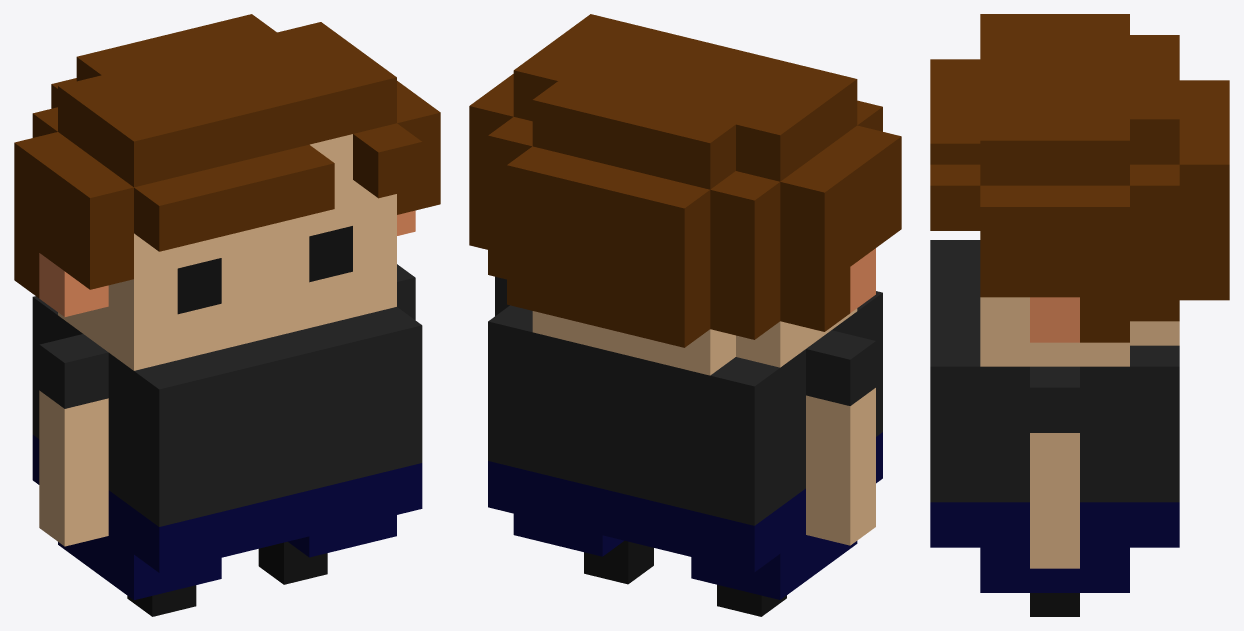
File: chr_mike.obj
3 renders of one model, left to right at view 1: azimuth 30°, elevation 25°; view 2: azimuth 150°, elevation 25°; view 3: azimuth 270°, elevation 25°, orthographic. The views are drawn at different scales.
Bounding box in the file's own units: 0.8 × 1.1 × 0.6.
1 material, 1 textured.
